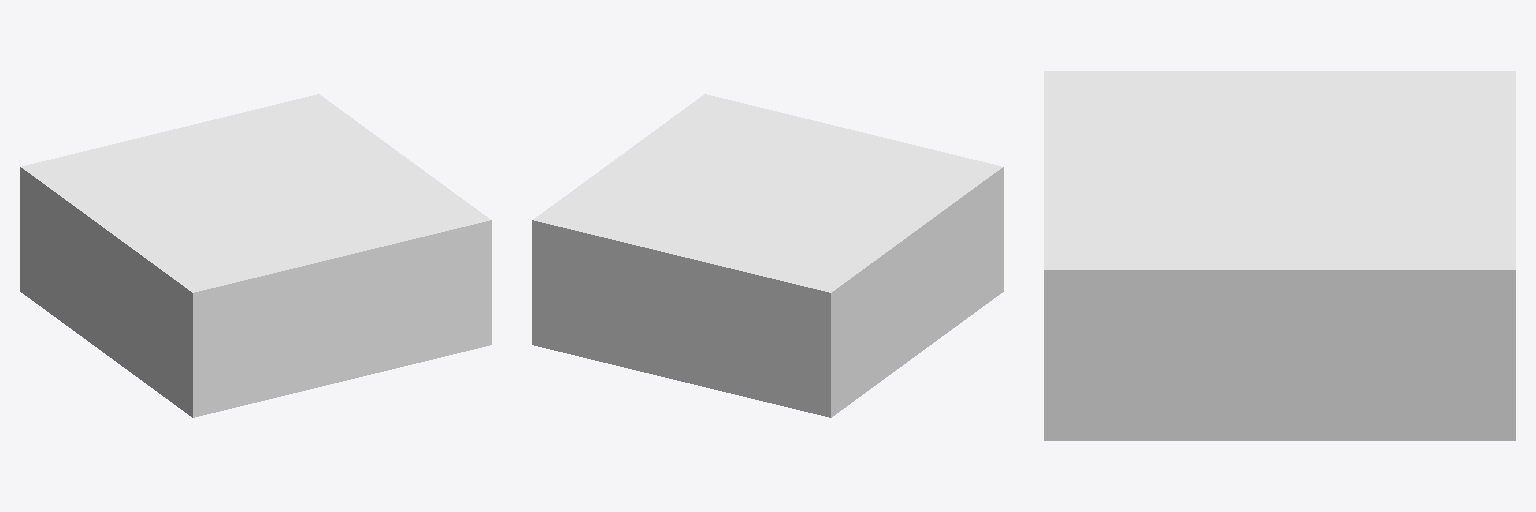
The robot description file, URDF, robot "unit_cube":
<?xml version="1.0"?>
<robot name="unit_cube">
  <material name="white">
    	<color rgba="1 1 1 1"/>
  </material>
	  
  <link name="base_link">
    <visual>
      <geometry>
        <box size="0.25 0.25 0.1"/>
      </geometry>
      <material name="white"/>
    </visual>
    <collision>
	<origin xyz="0 0 0" rpy="0 0 0"></origin>
	<geometry>
            <box size="0.25 0.25 0.1"/>
      </geometry>
    </collision>
    <inertial>
      <mass value="1"/>
      <inertia ixx="0.0017" ixy="0.0" ixz="0.0" iyy="0.0017" iyz="0.0" izz="0.0017"/>
    </inertial>
  </link>
</robot>

--- Render facts (derived) ---
3 views of the same robot in one strip: view 1: azimuth 30°, elevation 25°; view 2: azimuth 150°, elevation 25°; view 3: azimuth 270°, elevation 25° (orthographic).
Robot: unit_cube — 1 links, 0 joints (none); root link base_link; default pose: every joint at zero.
Links seen in each view (by area): view 1: base_link; view 2: base_link; view 3: base_link.
Link boxes in pixels (box(x1,y1,x2,y2)): base_link: box(20, 94, 491, 417); base_link: box(532, 94, 1003, 417); base_link: box(1044, 71, 1515, 440).
Bounding box of the posed robot: 0.25 × 0.25 × 0.1 m (x, y, z).
Geometry: primitives only (box / cylinder / sphere), no mesh files.